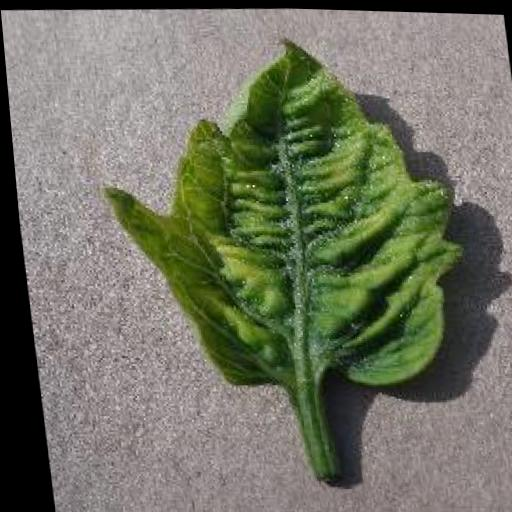Yellow Leaf Curl Virus: (79, 23, 476, 396)
